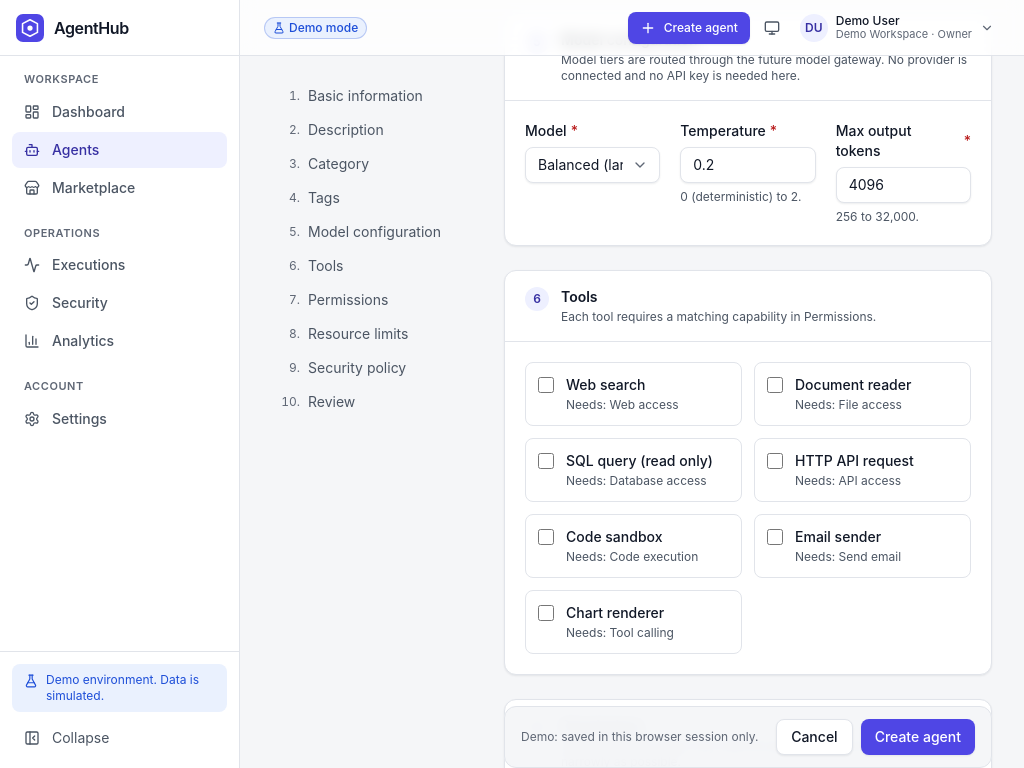
Test case: create agent form › rejects an invalid configuration: a tool without its capability
(page scrolled)
Click the checkbox labelled "Web search" at (546,385), box [538,377,554,393]
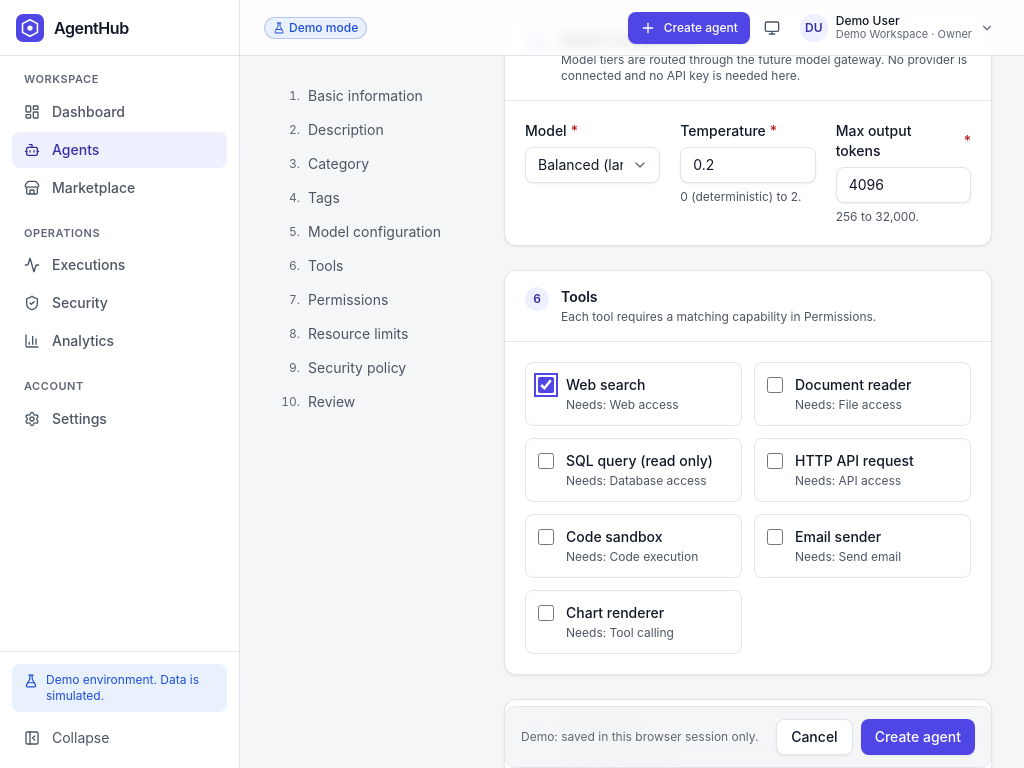
Click the button "Create agent" at (918,737), box [861,719,975,755]
(page scrolled)
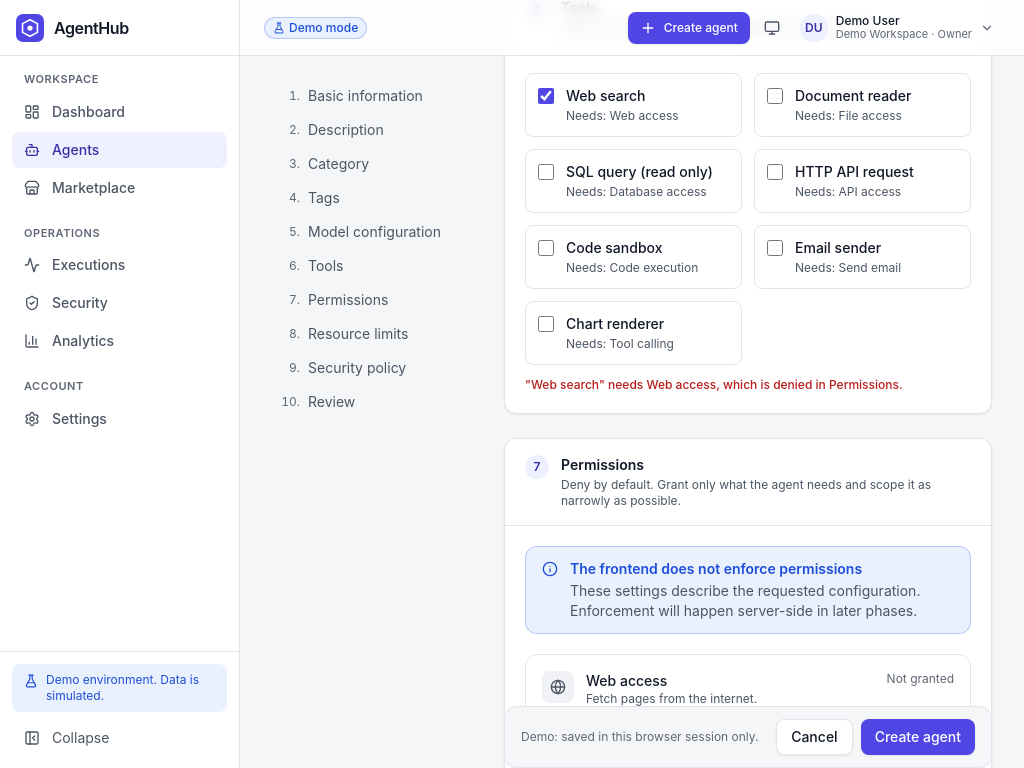
Now the text "\"Web search\" needs Web access, which is denied in Permissions." is shown, box [525,377,903,392]
